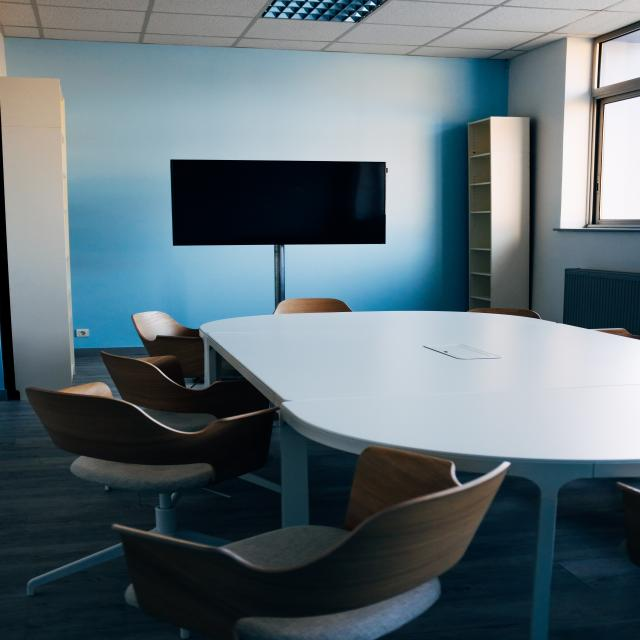chair: (134, 484, 480, 608), (32, 371, 259, 476), (75, 331, 304, 422), (99, 294, 312, 372), (258, 261, 451, 334)
table: (203, 308, 640, 468)
television: (158, 152, 400, 250)
